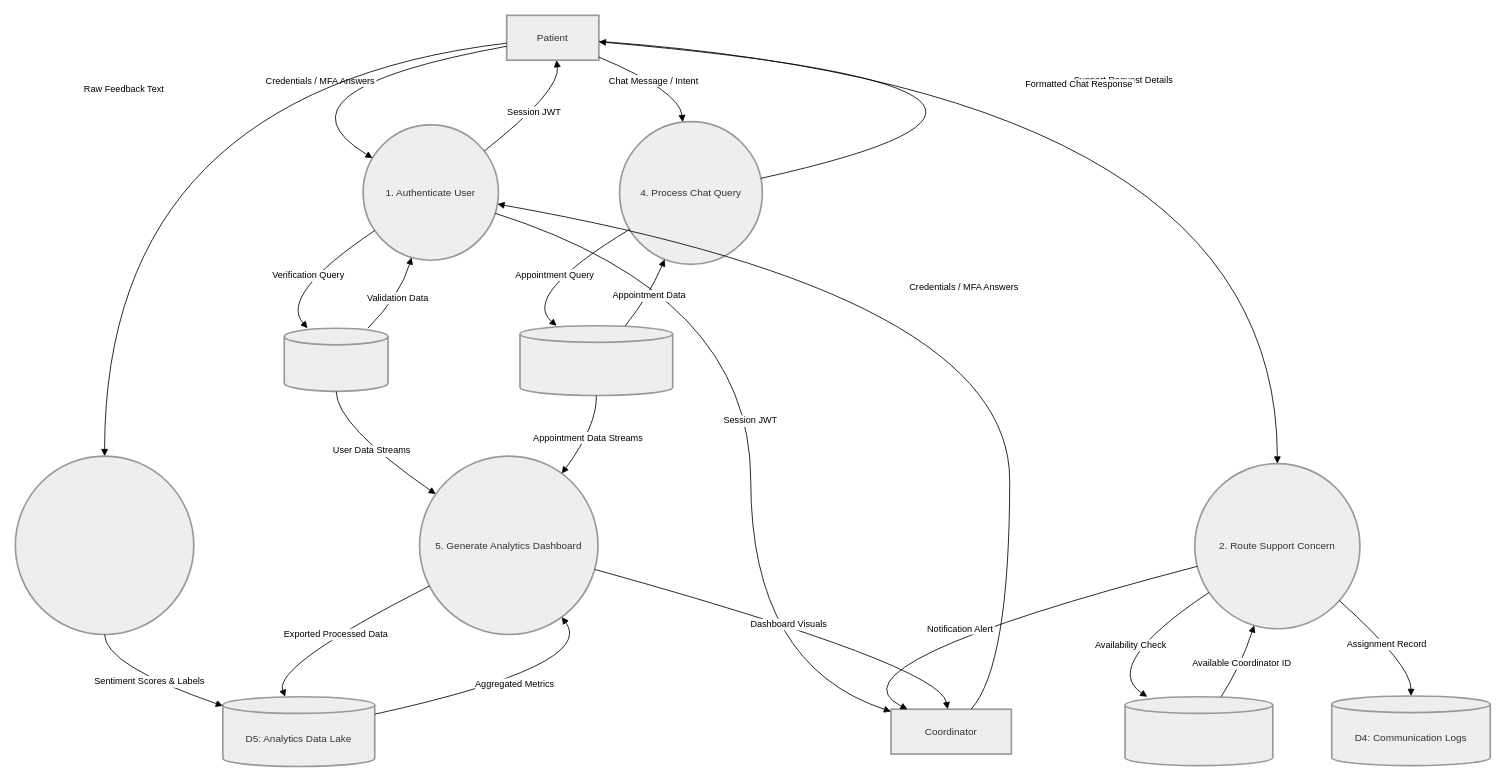
Image size: 1505x781. Some labels were removed from this diagram. The centre of each missing label's shape, as x and y in pixels:
"3. Analyze Feedback Sentiment" belongs at point 104,545.
"D1: Users Store" belongs at point 335,359.
"D2: Appointments Store" belongs at point 596,360.
"D3: Coordinators Store" belongs at point 1198,731.
